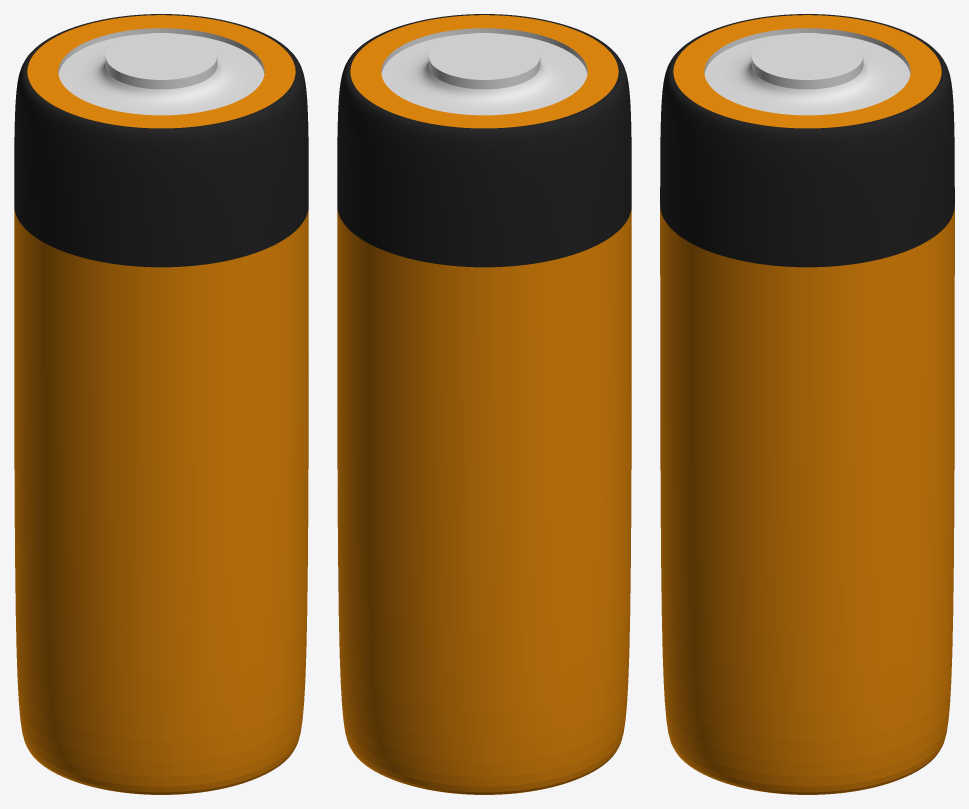
The model's file is Battery.glb.
The picture shows the model from 3 angles, left to right: view 1: azimuth 30°, elevation 25°; view 2: azimuth 150°, elevation 25°; view 3: azimuth 270°, elevation 25°; orthographic projection.
Visible parts, largest first — view 1: Battery; view 2: Battery; view 3: Battery.
Part boxes in pixels (left/top/right/bottom): Battery: left=14, top=14, right=308, bottom=794; Battery: left=337, top=14, right=631, bottom=794; Battery: left=660, top=14, right=954, bottom=794.
Bounding box in the file's own units: 0.8455 × 2.19 × 0.8455.
